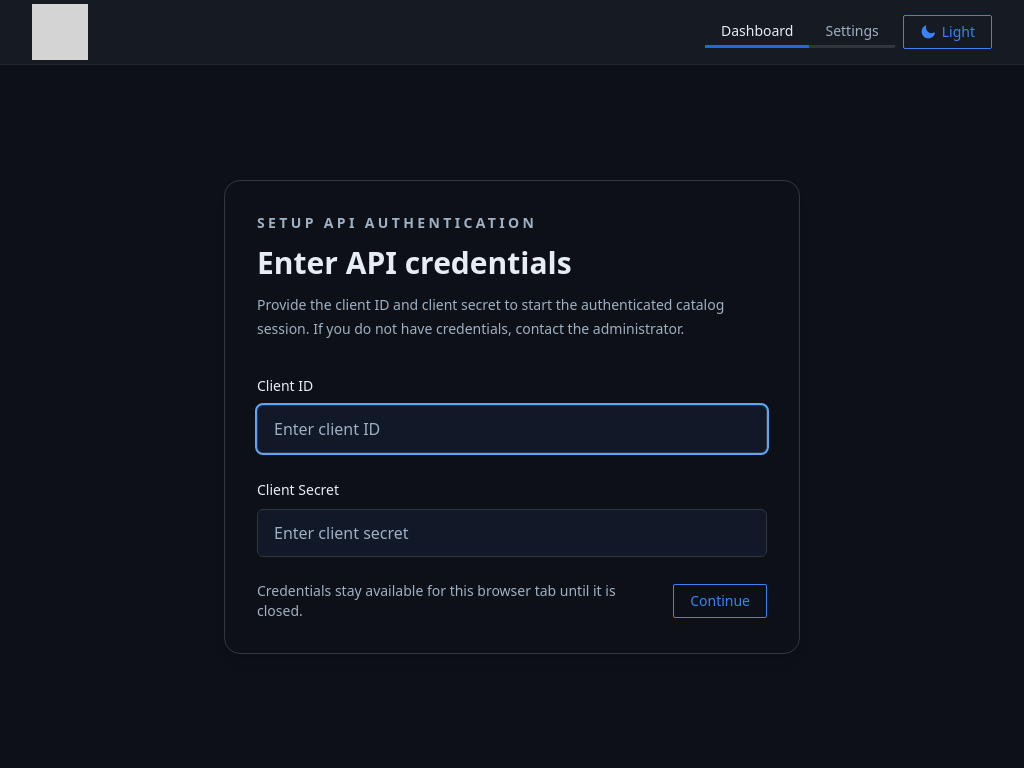
Test: Backend with auth (SERVER_AVAILABLE, server + token URL) › Settings page from landing page with one authenticated item
This screenshot has width=1024, height=768.
Expected: the heading "Enter API credentials" is shown, [257,242,572,283]
Type "test-client" into the field labelled "Client ID".
click(512, 429); type("test-client")  # box [257,405,767,453]
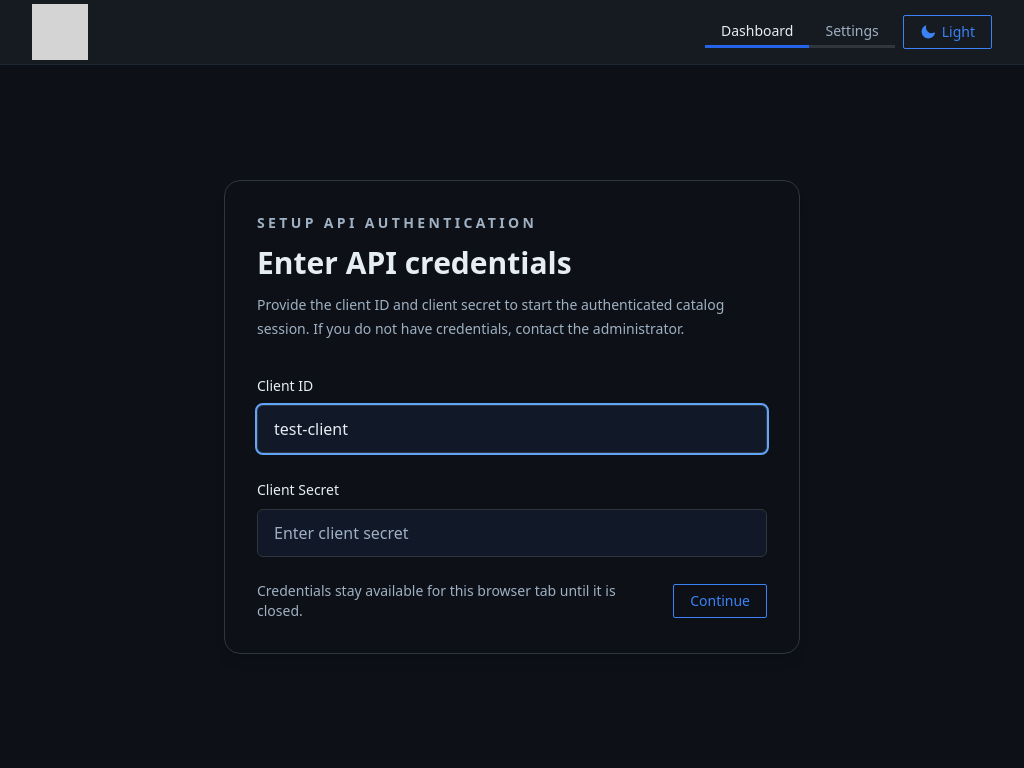
Type "test-secret" into the password field labelled "Client Secret".
click(512, 533); type("test-secret")  # box [257,509,767,557]
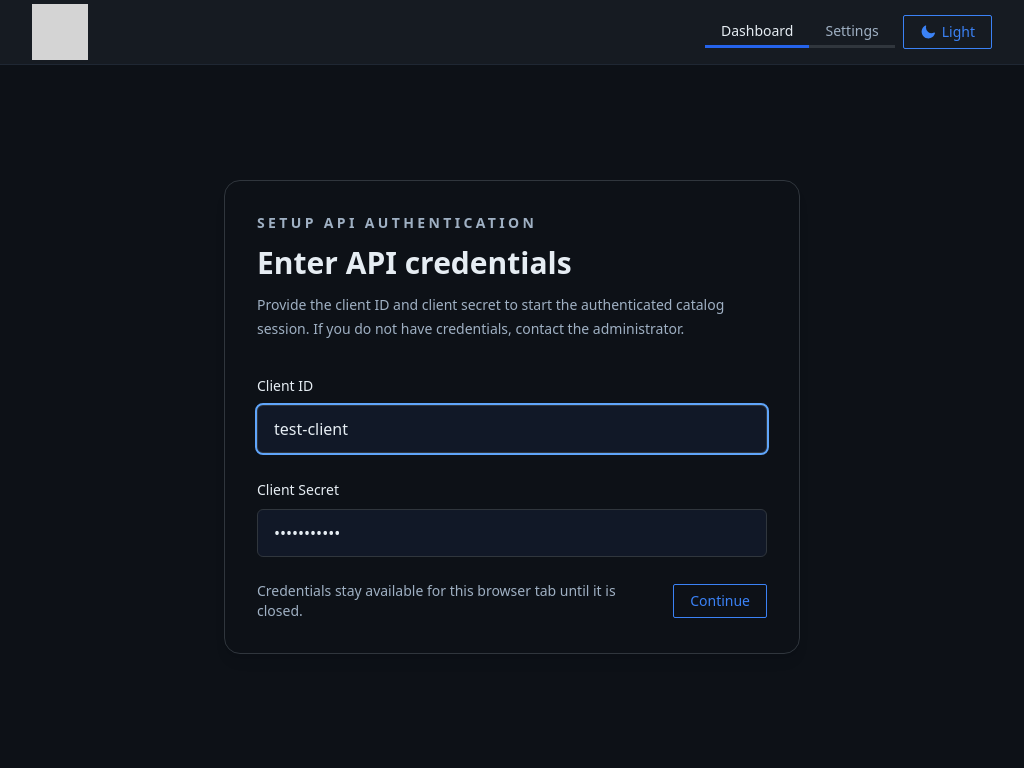
Click the button "Continue".
click(720, 601)  # box [673,584,767,618]
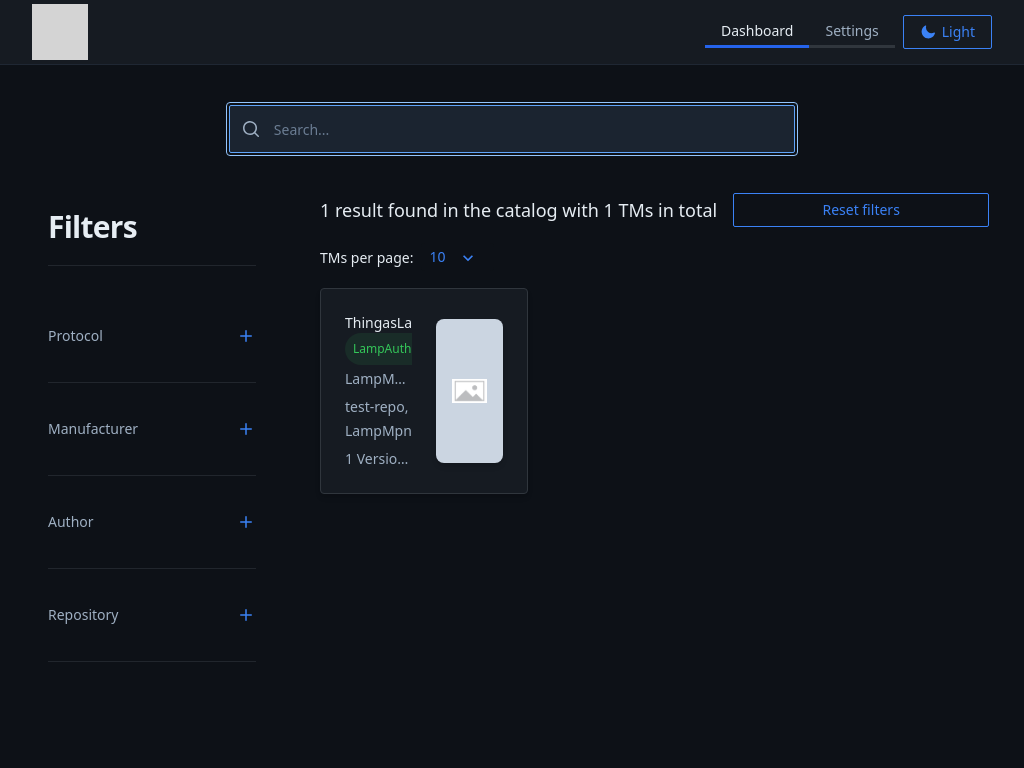
Expected: the heading "Filters" is shown, [48,209,137,245]
Expected: the heading "ThingasLamp" is shown, [345,313,412,333]
Expected: the text "1 result found" is shown, [320,196,717,224]
Click the link "Settings".
click(852, 32)  # box [810,16,895,48]
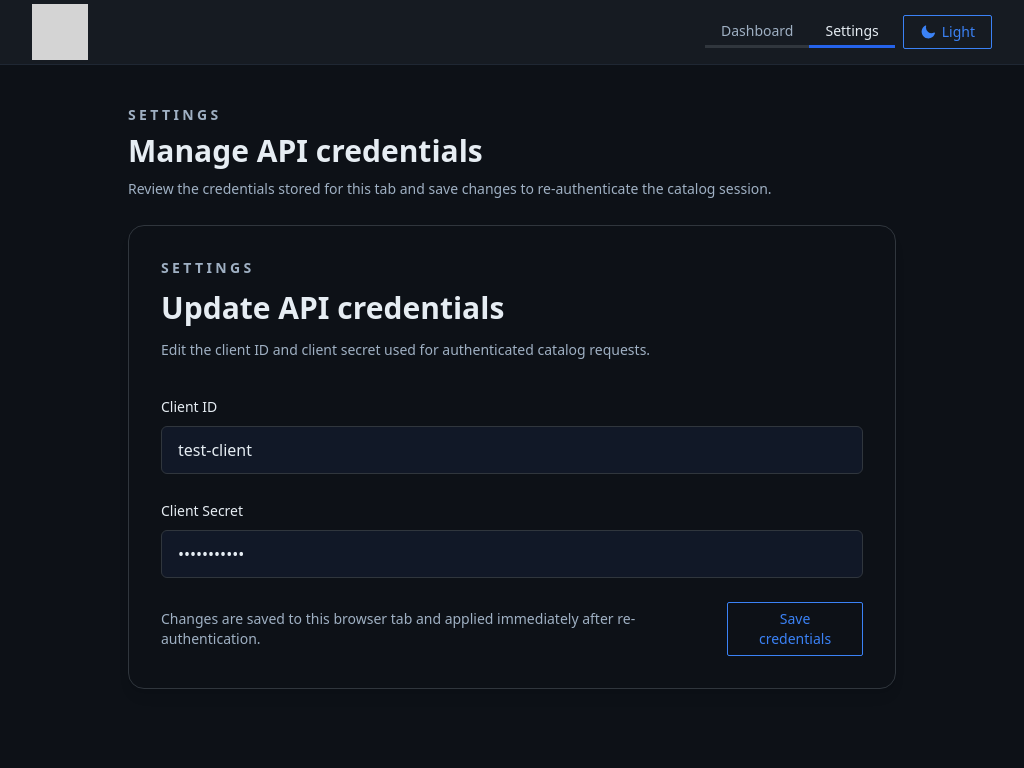
Expected: the heading "Manage API credentials" is shown, [128,130,483,171]
Expected: the heading "Update API credentials" is shown, [161,287,504,328]
Expected: the field labelled "Client ID" is shown, [161,426,863,474]
